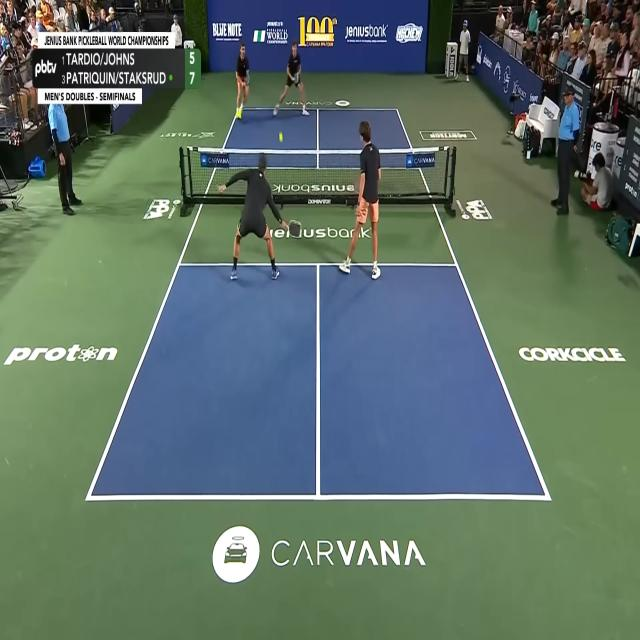ball: (279, 132, 283, 143)
